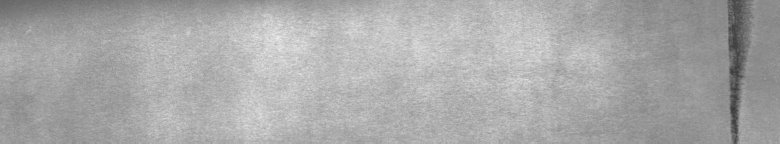hd: (724, 4, 748, 136)
